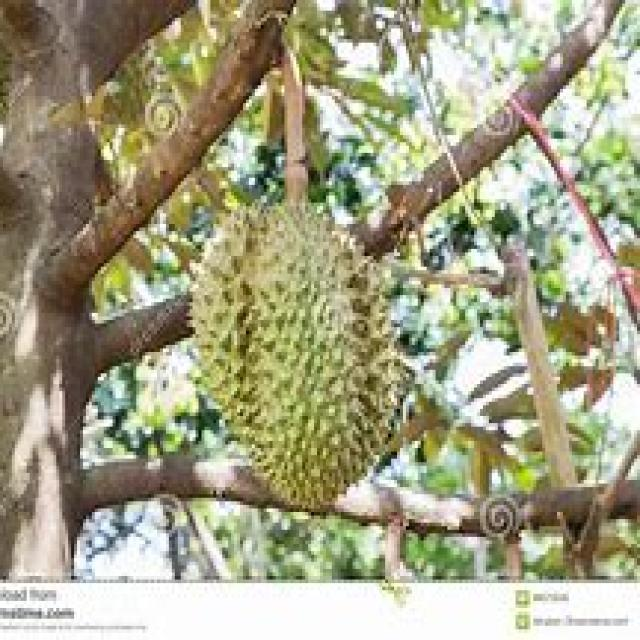mature: (192, 212, 401, 503)
